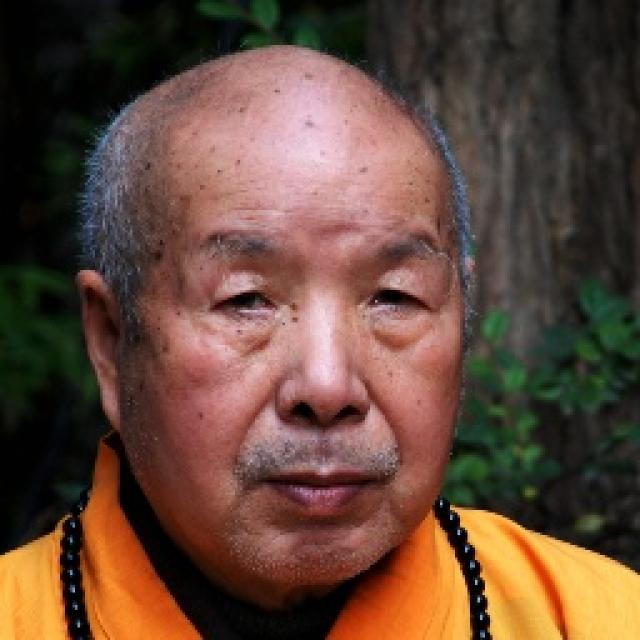earlobe: (98, 368, 128, 436)
eye: (368, 285, 431, 313), (214, 290, 278, 317)
nose: (276, 398, 374, 462)
wholeear: (76, 270, 128, 435)
